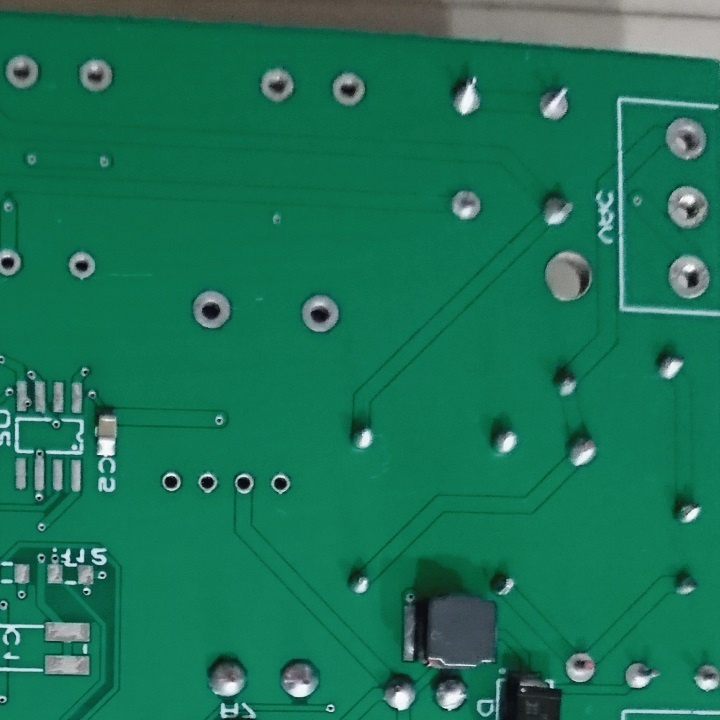F: (663, 249, 717, 303), (662, 181, 716, 231), (659, 113, 712, 162), (190, 288, 235, 332), (300, 293, 342, 336), (535, 84, 579, 125), (75, 55, 117, 95), (258, 64, 297, 106), (329, 69, 368, 111), (3, 52, 42, 93), (561, 648, 599, 688), (444, 189, 484, 226), (624, 658, 664, 695), (691, 660, 720, 700), (67, 248, 98, 281), (1, 246, 24, 282), (195, 472, 220, 498), (233, 471, 256, 499), (158, 469, 182, 495), (267, 472, 292, 495)
